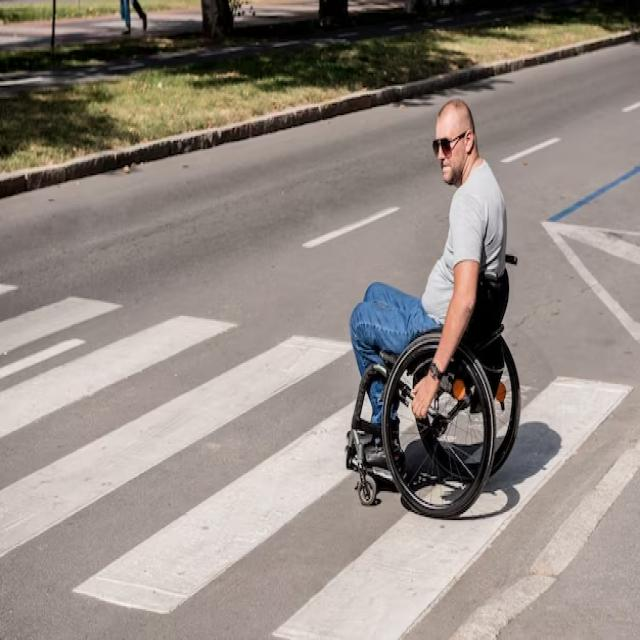wheelchairs: (339, 237, 530, 531)
